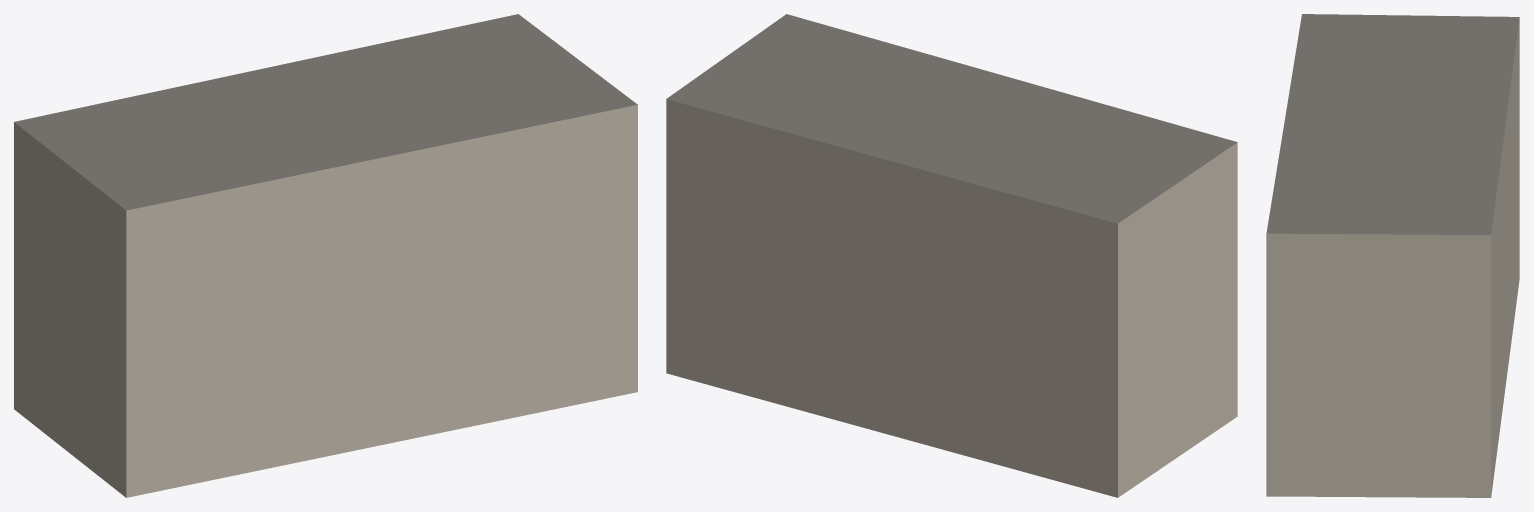
3 renders of one model, left to right at view 1: azimuth 30°, elevation 25°; view 2: azimuth 150°, elevation 25°; view 3: azimuth 270°, elevation 25°, orthographic. The views are drawn at different scales.
Visible parts, largest first — view 1: HP-w729793454; view 2: HP-w729793454; view 3: HP-w729793454.
Part boxes in pixels (x1,y1,x2,y2): HP-w729793454: (14,14,637,497); HP-w729793454: (666,14,1237,497); HP-w729793454: (1266,14,1519,497).
Bounding box in the file's own units: 32.48 × 18 × 15.71.
